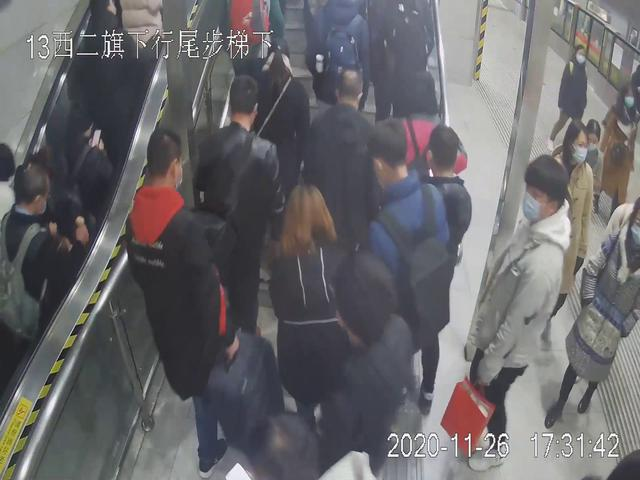person: (110, 124, 255, 478), (467, 160, 568, 470), (344, 129, 449, 392), (196, 75, 285, 336), (268, 180, 360, 423), (553, 200, 640, 422), (4, 161, 80, 350), (547, 37, 593, 151)
